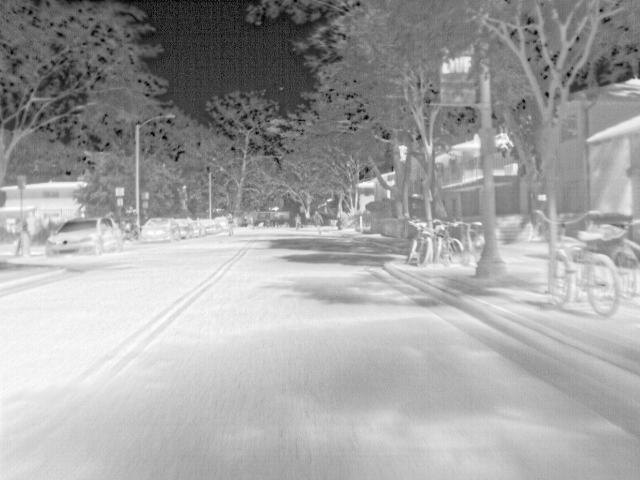car: (44, 215, 121, 257), (138, 216, 179, 243), (174, 218, 194, 239), (193, 218, 206, 237), (205, 218, 220, 234), (219, 216, 226, 232)
person: (25, 210, 39, 238), (312, 210, 324, 234), (225, 213, 235, 237), (293, 213, 302, 230)
